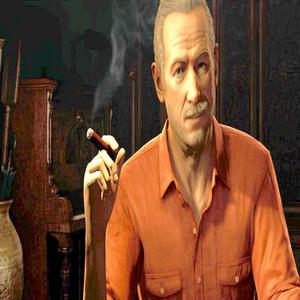cigarette: (85, 127, 116, 158)
